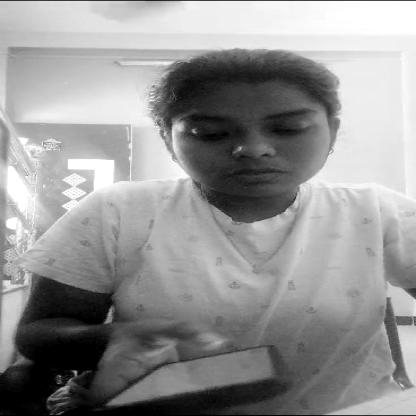Normal: (147, 37, 350, 210)
